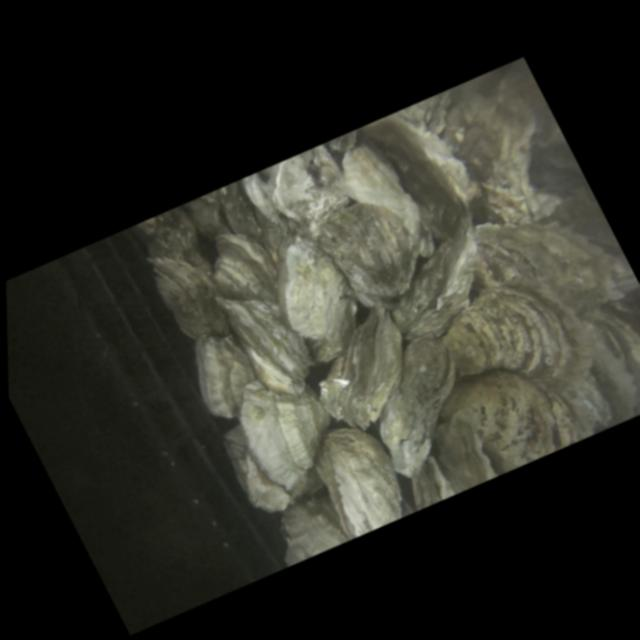Oyster-Closed: (361, 202, 519, 359), (290, 293, 437, 449), (215, 270, 324, 409), (145, 240, 234, 351)
Oyster-Indeterminate: (462, 163, 640, 356), (343, 319, 497, 489), (428, 346, 571, 493), (444, 91, 580, 244), (432, 267, 576, 410), (223, 354, 354, 502), (250, 223, 374, 373), (381, 91, 504, 242), (309, 183, 434, 321), (300, 410, 417, 545), (205, 411, 304, 537), (331, 131, 430, 256), (177, 324, 269, 431), (260, 138, 357, 239), (197, 215, 287, 315), (410, 408, 498, 504), (580, 291, 640, 419), (262, 493, 352, 575), (547, 358, 624, 445), (142, 200, 212, 275), (237, 171, 283, 233), (395, 462, 447, 516)
Oyster-Open: (521, 366, 593, 454), (197, 184, 265, 254)
